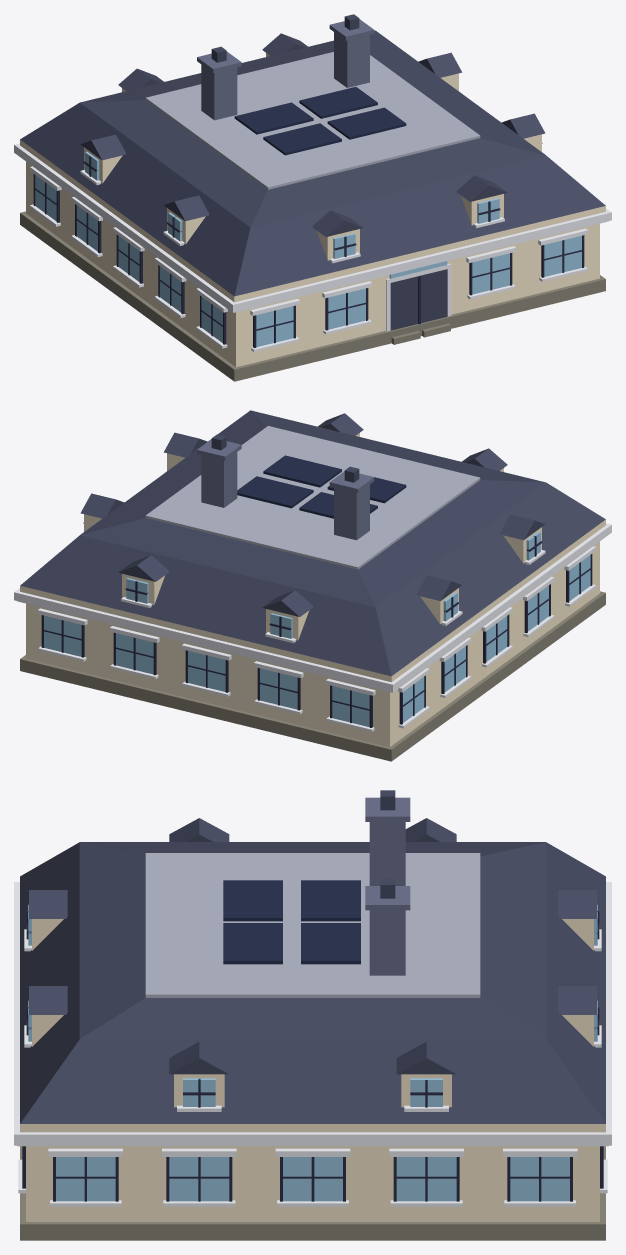
The model's file is house-2x2-1f-haussmann-a-solar.glb.
3 views of the same model, one above another, from view 1: azimuth 30°, elevation 25°; view 2: azimuth 150°, elevation 25°; view 3: azimuth 270°, elevation 25° (orthographic). The views are drawn at different scales.
Parts seen in each view (by area): view 1: house-2x2-1f-haussmann-a-solar; view 2: house-2x2-1f-haussmann-a-solar; view 3: house-2x2-1f-haussmann-a-solar.
Part boxes in pixels (box(x1,y1,x2,y2)): house-2x2-1f-haussmann-a-solar: box(14, 14, 611, 381); house-2x2-1f-haussmann-a-solar: box(14, 410, 611, 761); house-2x2-1f-haussmann-a-solar: box(14, 790, 611, 1240).
Bounding box in the file's own units: 2 × 1.03 × 2.
Materials: 1 (1 with a texture image).
